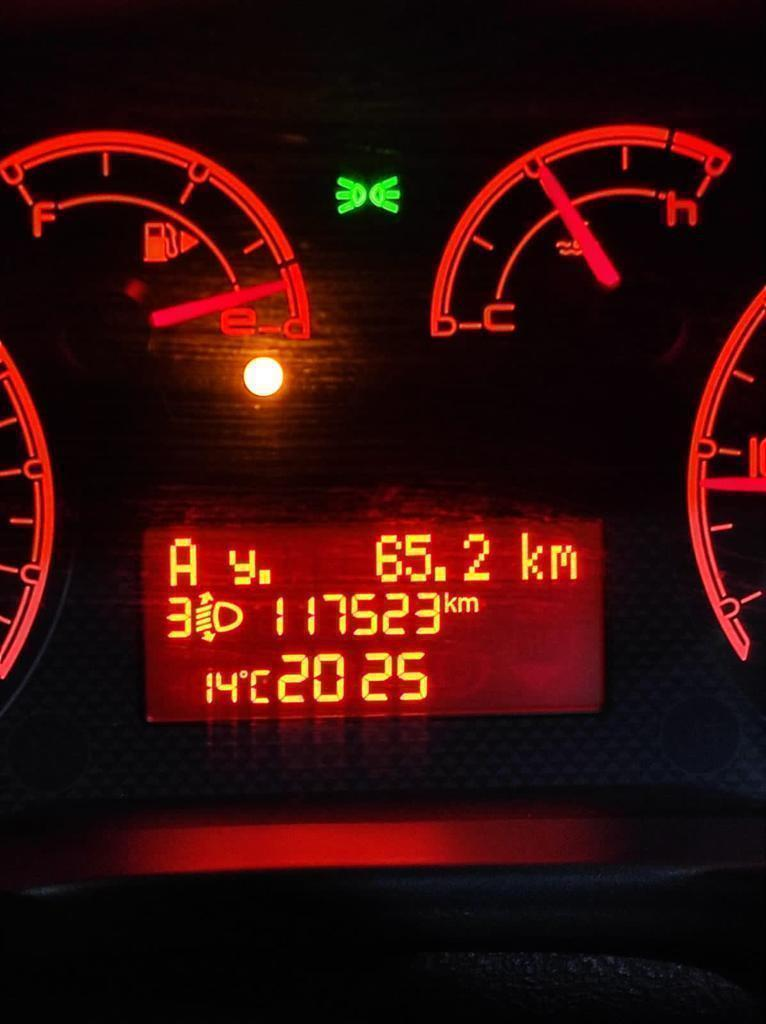,: (256, 566, 273, 588), (434, 564, 447, 585)
0: (311, 651, 344, 706)
1: (271, 593, 290, 639), (303, 592, 319, 638), (203, 670, 214, 707)
2: (459, 530, 494, 584), (359, 648, 392, 705), (277, 649, 307, 706), (382, 590, 411, 638)
3: (414, 590, 441, 637), (165, 596, 194, 639)
4: (215, 671, 238, 704)
5: (395, 649, 430, 703), (404, 530, 432, 584), (349, 591, 378, 637)
6: (374, 532, 403, 584)
7: (319, 591, 346, 636)
X: (168, 533, 197, 588), (517, 527, 545, 581), (223, 545, 256, 587), (549, 541, 578, 583), (249, 667, 271, 705), (457, 594, 480, 613), (443, 590, 456, 614)
odometer: (135, 507, 612, 727)
